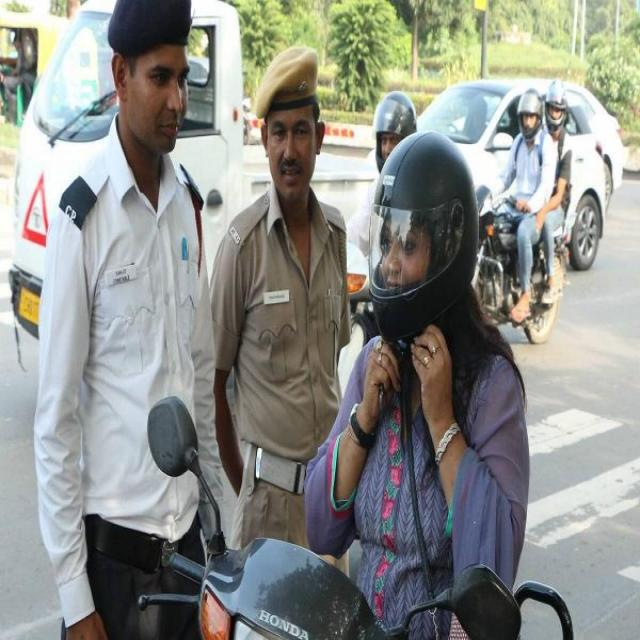Helmet: (369, 128, 482, 339), (369, 78, 426, 188), (513, 77, 545, 146), (543, 77, 570, 143)
